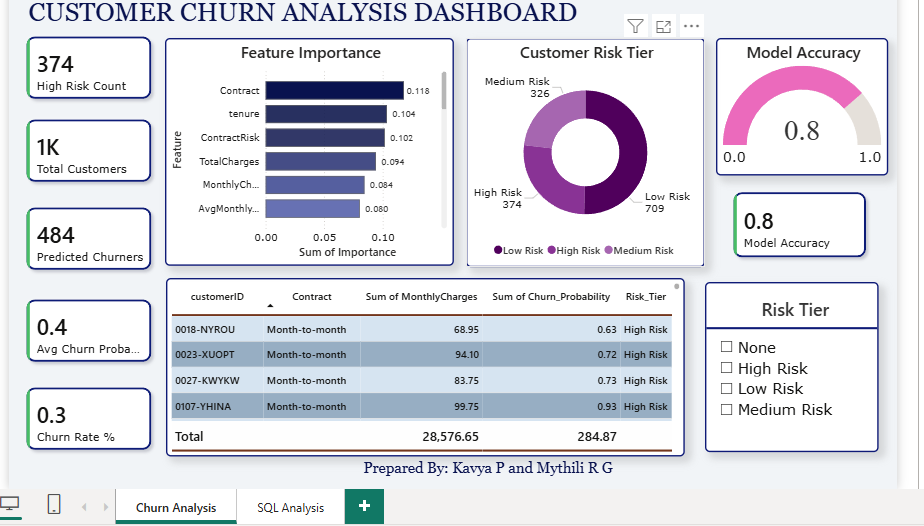

The dashboard page shown, as its layout file describes it:
{"tool":"powerbi","page":{"name":"Churn Analysis","canvas":[1280,720],"ordinal":0},"visuals":[{"type":"gauge","fields":{"Y":["predictions_output.Model Accuracy"]},"box":[1018,70,248,198],"z":0},{"type":"donutChart","title":"Customer Risk Tier","fields":{"Category":["predictions_output.Risk_Tier"],"Y":["CountNonNull(predictions_output.customerID)"]},"box":[658,70,344,330],"z":1000},{"type":"tableEx","fields":{"Values":["predictions_output.customerID","CustomerChurn.Contract","Sum(CustomerChurn.MonthlyCharges)","Sum(predictions_output.Churn_Probability)","predictions_output.Risk_Tier"]},"box":[226,416.7,747,256.7],"z":2000},{"type":"textbox","box":[23,7,843.8,59],"z":3000},{"type":"cardVisual","fields":{"Data":["predictions_output.Total Customers"]},"box":[0,162.7,237.6,144],"z":4000},{"type":"cardVisual","fields":{"Data":["predictions_output.Avg Churn Probability"]},"box":[0,421.9,237.6,144],"z":5000},{"type":"cardVisual","fields":{"Data":["predictions_output.Churn Rate %"]},"box":[0,548.6,237.6,144],"z":6000},{"type":"cardVisual","fields":{"Data":["predictions_output.Predicted Churners"]},"box":[0,289.4,237.6,144],"z":7000},{"type":"cardVisual","fields":{"Data":["predictions_output.High Risk Count"]},"box":[0,43.2,237.6,144],"z":8000},{"type":"clusteredBarChart","title":"Feature Importance","fields":{"Category":["feature_importance.Feature"],"Y":["Sum(feature_importance.Importance)"]},"box":[224,70,416,328],"z":9000},{"type":"cardVisual","fields":{"Data":["predictions_output.Model Accuracy"]},"box":[1018.1,263.5,256.3,152.6],"z":10000},{"type":"listSlicer","title":"Risk Tier","fields":{"Values":["predictions_output.Risk_Tier"]},"box":[1001.7,421.7,250,245],"z":11000},{"type":"textbox","box":[99.4,672.5,1180.8,47.5],"z":12000}]}

Visuals, with their boxes on the page's 1280x720 design canvas (x1, y1, x2, y2). These are canvas units, not pixel positions in the 924x526 screenshot, which may show the page scaled, cropped or inside an application window:
gauge - predictions_output.Model Accuracy: crop(1018, 70, 1266, 268)
"Customer Risk Tier" donutChart: crop(658, 70, 1002, 400)
tableEx - predictions_output.customerID x CustomerChurn.Contract: crop(226, 417, 973, 673)
textbox: crop(23, 7, 867, 66)
cardVisual - predictions_output.Total Customers: crop(0, 163, 238, 307)
cardVisual - predictions_output.Avg Churn Probability: crop(0, 422, 238, 566)
cardVisual - predictions_output.Churn Rate %: crop(0, 549, 238, 693)
cardVisual - predictions_output.Predicted Churners: crop(0, 289, 238, 433)
cardVisual - predictions_output.High Risk Count: crop(0, 43, 238, 187)
"Feature Importance" clusteredBarChart: crop(224, 70, 640, 398)
cardVisual - predictions_output.Model Accuracy: crop(1018, 264, 1274, 416)
"Risk Tier" listSlicer: crop(1002, 422, 1252, 667)
textbox: crop(99, 672, 1280, 720)
